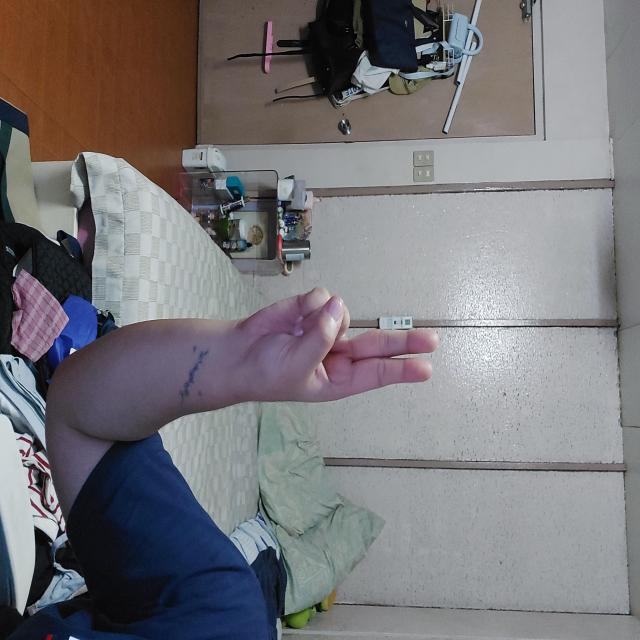U: (285, 200, 404, 407)
